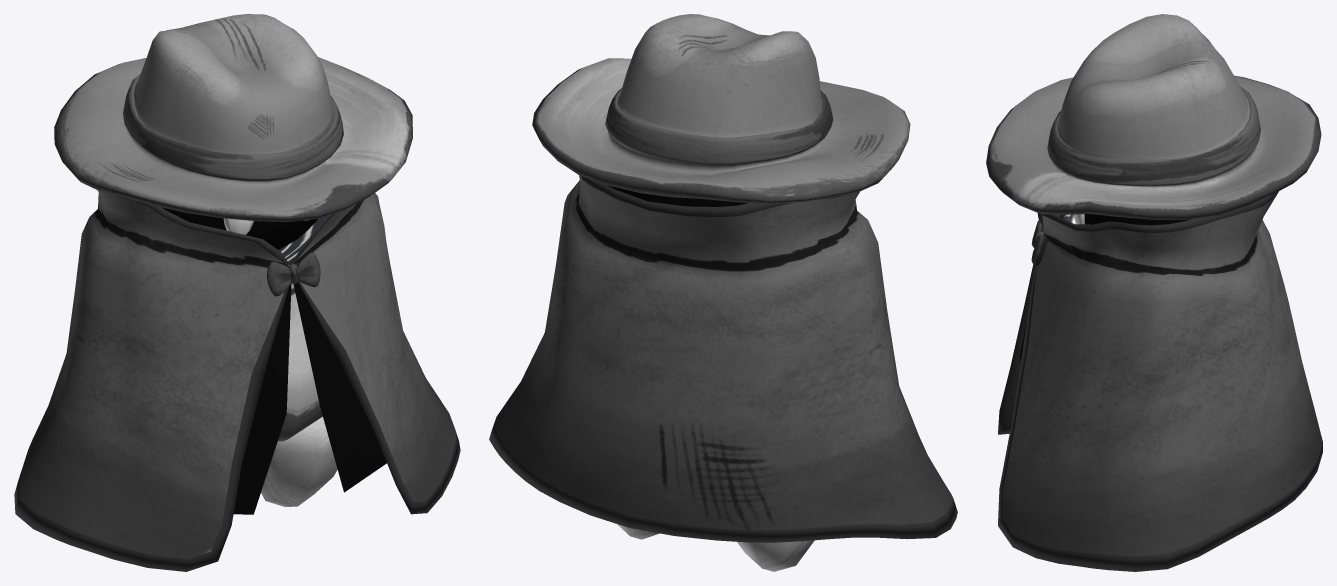
The model's file is GDC_main_character_model_NO-ANI.fbx.
The picture shows the model from 3 angles, left to right: view 1: azimuth 30°, elevation 25°; view 2: azimuth 150°, elevation 25°; view 3: azimuth 270°, elevation 25°; orthographic projection. The views are drawn at different scales.
Visible parts, largest first — view 1: coat_detective_IN1, hat_detective, polySurface2, body_detective_main, polySurface3, pCube5; view 2: coat_detective_IN1, hat_detective, polySurface1, polySurface3; view 3: coat_detective_IN1, hat_detective, polySurface3, pCube5.
Boxes of the visible parts, <box> form: coat_detective_IN1: <box>14,190,460,571</box>; hat_detective: <box>54,14,412,221</box>; polySurface2: <box>261,417,337,507</box>; body_detective_main: <box>278,215,328,441</box>; polySurface3: <box>162,207,318,249</box>; pCube5: <box>267,252,320,296</box>; coat_detective_IN1: <box>489,175,957,542</box>; hat_detective: <box>532,14,910,204</box>; polySurface1: <box>737,540,814,571</box>; polySurface3: <box>607,185,747,206</box>; coat_detective_IN1: <box>998,191,1322,571</box>; hat_detective: <box>986,14,1321,219</box>; polySurface3: <box>1084,214,1190,225</box>; pCube5: <box>1031,220,1047,265</box>.
Size of the model in its own units: 5.39 by 6.13 by 3.83.
